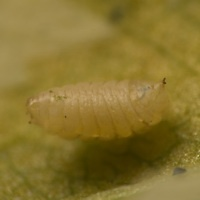insect: (27, 78, 169, 138)
